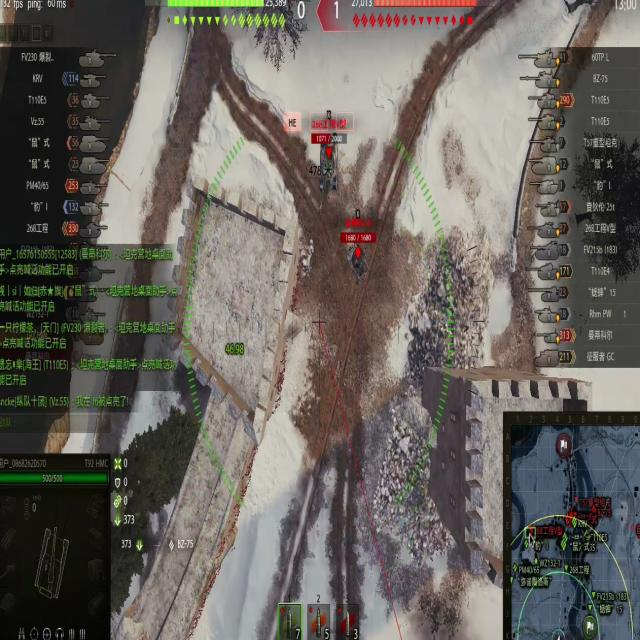tank: (312, 134, 351, 196), (338, 227, 377, 278)
